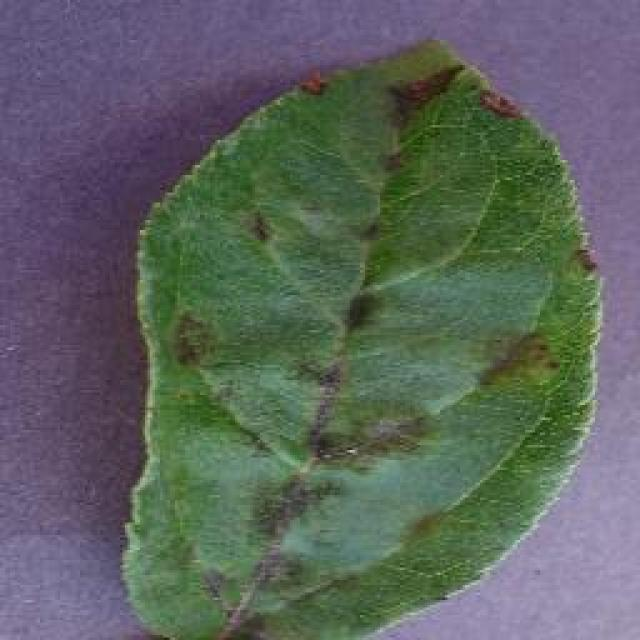apple scab disease: (115, 35, 605, 637)
